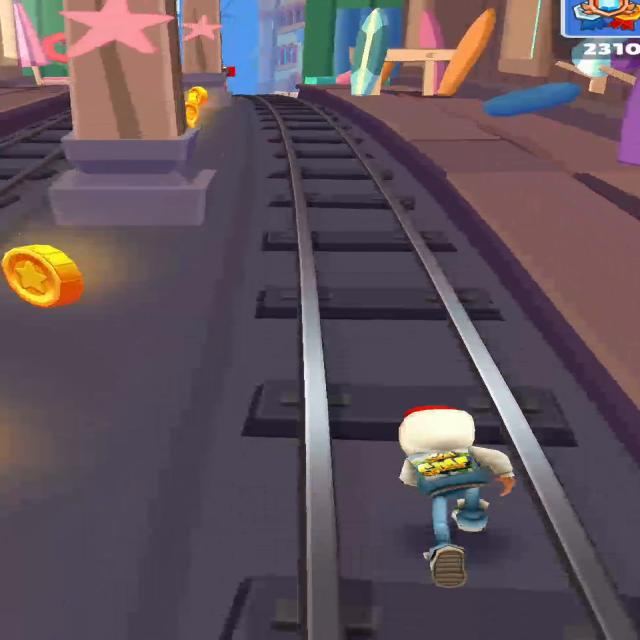block pillar: (50, 0, 214, 226), (178, 0, 235, 120)
